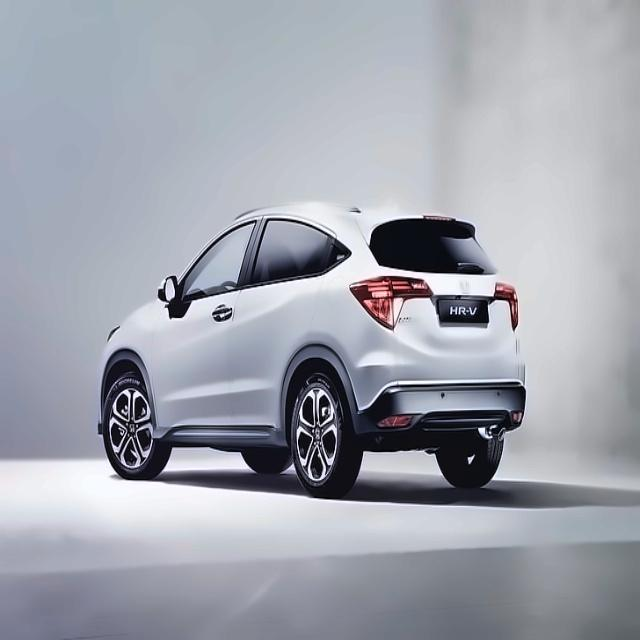Car boot: (358, 208, 528, 395)
Fender - -F-L-: (91, 287, 173, 448)
Fender - -R-L-: (296, 213, 391, 377)
Passenger-s door - -F-L-: (151, 194, 267, 462)
Passenger-s door - -R-L-: (223, 201, 341, 457)
Rear bumper: (344, 368, 528, 457)
Rear light - -L-: (347, 276, 434, 331)
Rear light - -R-: (494, 282, 522, 333)
Side bumper - -L-: (140, 413, 301, 459)
Side mirror - -L-: (155, 268, 182, 314)
